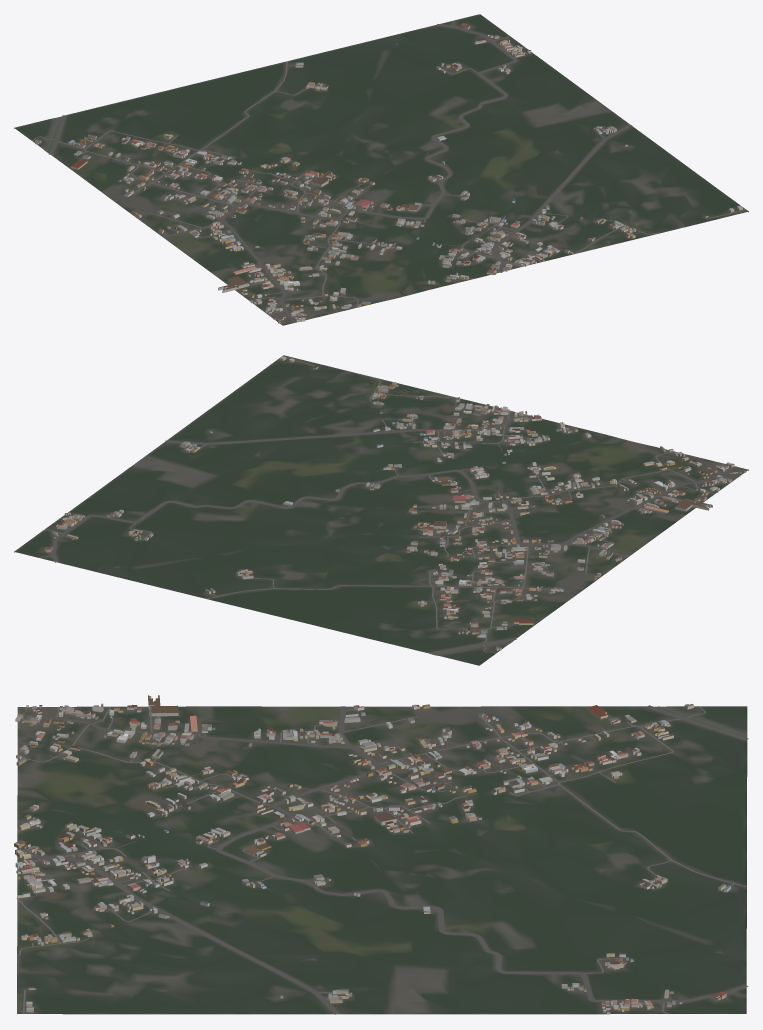
3 renders of one model, top to bottom at view 1: azimuth 30°, elevation 25°; view 2: azimuth 150°, elevation 25°; view 3: azimuth 270°, elevation 25°, orthographic. The views are drawn at different scales.
Visible parts, largest first — view 1: ground, buildings, roads; view 2: ground, buildings, roads; view 3: ground, buildings, roads.
Boxes of the visible parts, x1=… form: ground: x1=14, y1=14, x2=748, y2=325; buildings: x1=35, y1=23, x2=742, y2=323; roads: x1=32, y1=24, x2=746, y2=323; ground: x1=14, y1=355, x2=748, y2=665; buildings: x1=45, y1=356, x2=745, y2=650; roads: x1=42, y1=358, x2=744, y2=653; ground: x1=17, y1=706, x2=747, y2=1014; buildings: x1=14, y1=695, x2=730, y2=1013; roads: x1=16, y1=705, x2=748, y2=1014.
Bounding box in the file's own units: 1438 × 17.07 × 1411.
